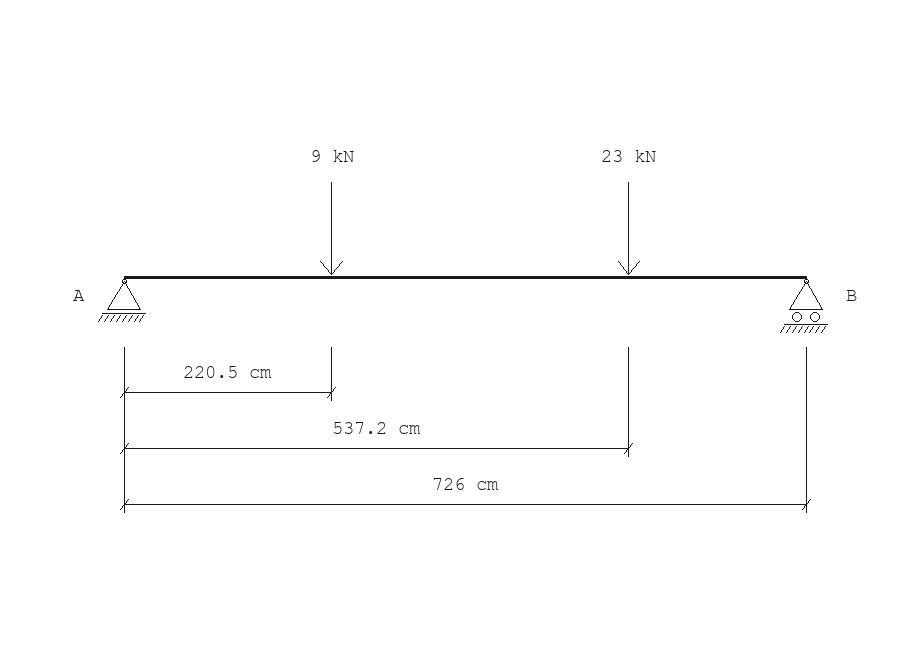pin_support: (98, 279, 146, 322)
point_load: (320, 182, 343, 275), (618, 182, 640, 275)
roller_support: (780, 279, 828, 333)
